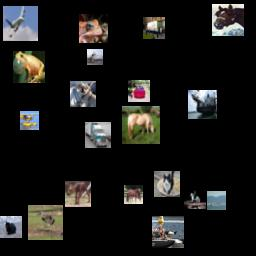airplane: (3, 6, 38, 41), (20, 111, 39, 130), (87, 49, 103, 65)
automobile: (128, 80, 150, 102)
bird: (28, 205, 63, 240)
cat: (154, 171, 180, 197), (0, 216, 22, 238)
deer: (65, 181, 91, 207)
dog: (70, 81, 96, 107)
frog: (13, 51, 45, 83), (79, 14, 108, 43)
ship: (152, 216, 184, 248), (188, 90, 217, 119), (207, 191, 226, 210)
truck: (85, 122, 111, 148), (143, 17, 165, 39)
